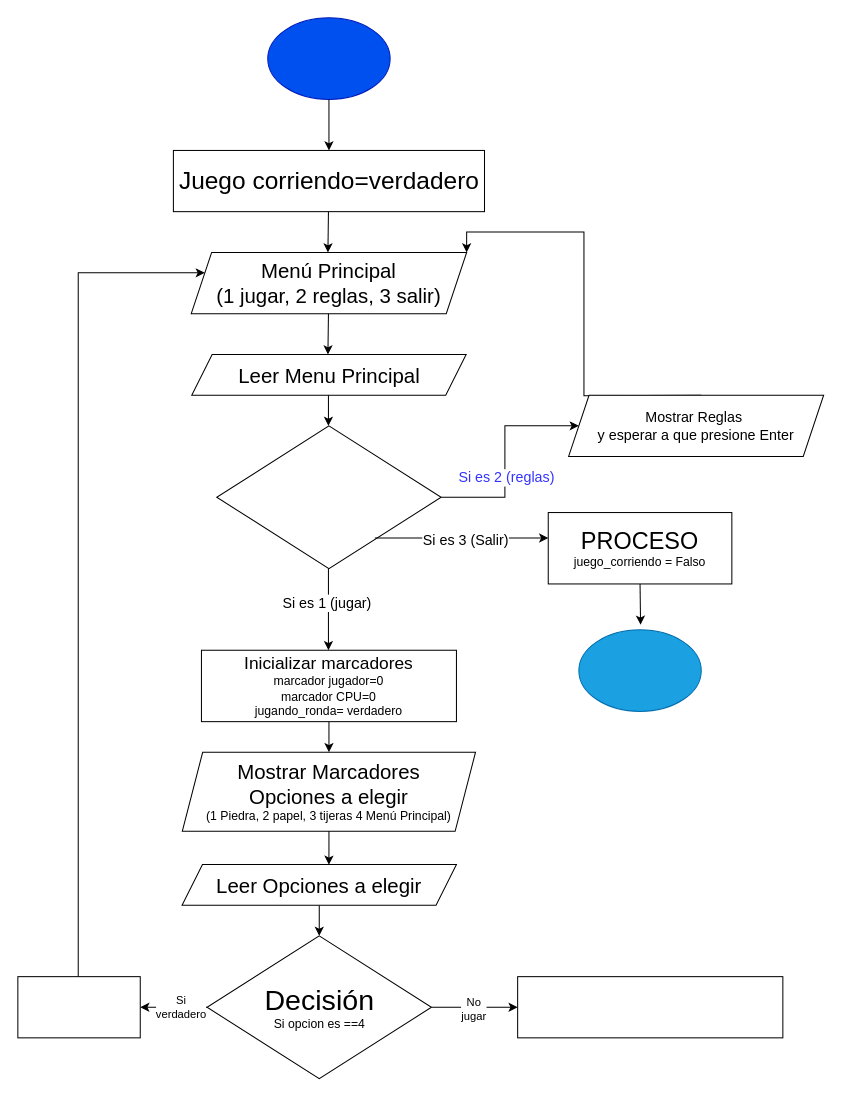
This 842x1097 diagram has some shape labels left out. Here are the shapes that lost their labels. From the top down, the box of each, then its label:
(267, 17, 390, 99): INICIO
(216, 425, 441, 569): Decisión Valor de Menú Principal
(578, 629, 701, 711): FIN
(17, 976, 140, 1038): jugando_ronda=falso
(517, 976, 783, 1038): Lógica del juego y actualización de marcador
